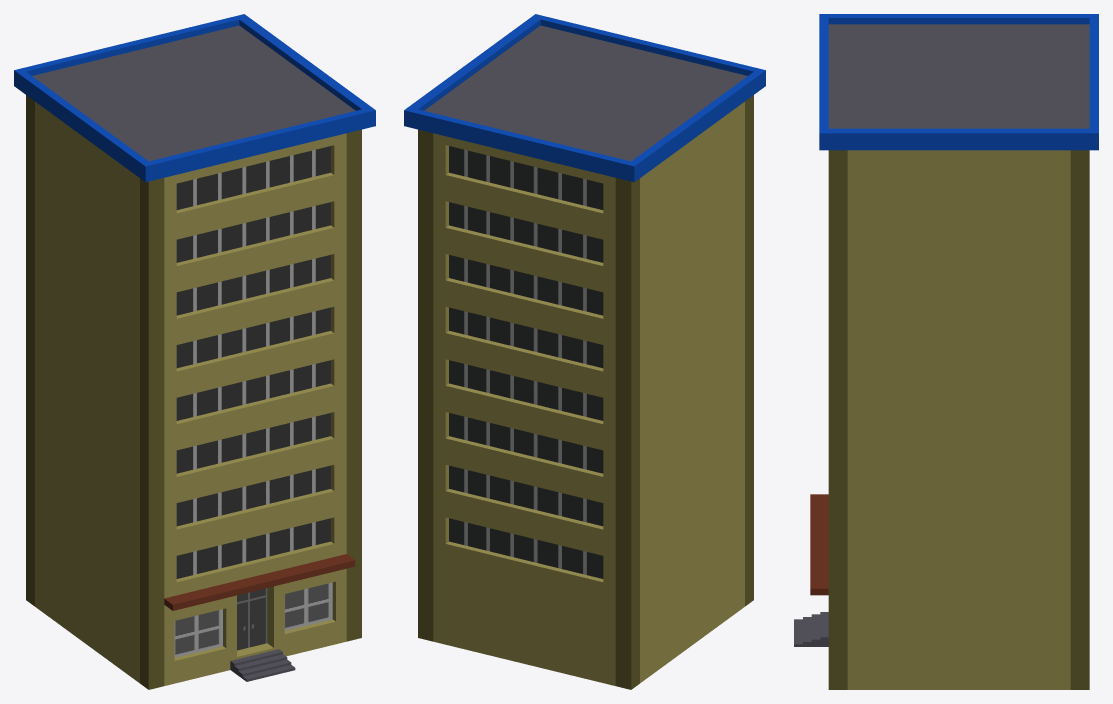
Rendered from building25a.FBX.
3 views of the same model, side by side, from view 1: azimuth 30°, elevation 25°; view 2: azimuth 150°, elevation 25°; view 3: azimuth 270°, elevation 25° (orthographic). The views are drawn at different scales.
Visible parts, largest first — view 1: building25a; view 2: building25a; view 3: building25a.
Boxes of the visible parts, bbox=[...] form: building25a: bbox=[14, 14, 375, 689]; building25a: bbox=[404, 14, 765, 689]; building25a: bbox=[794, 14, 1098, 689].
Size of the model in its own units: 21.67 by 47.5 by 23.38.
